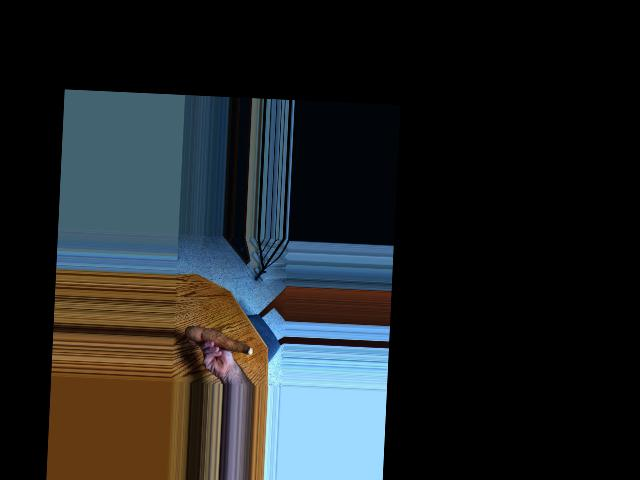sweet_potato: (185, 322, 255, 357)
